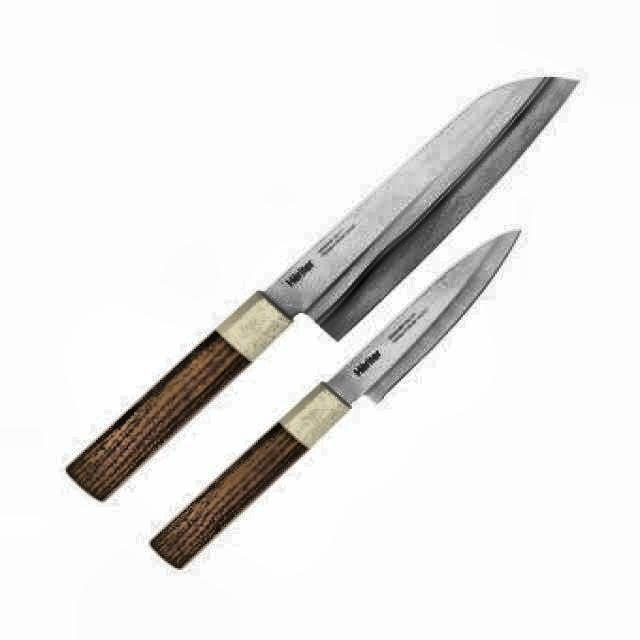knife: (63, 77, 582, 506), (146, 229, 520, 574)
